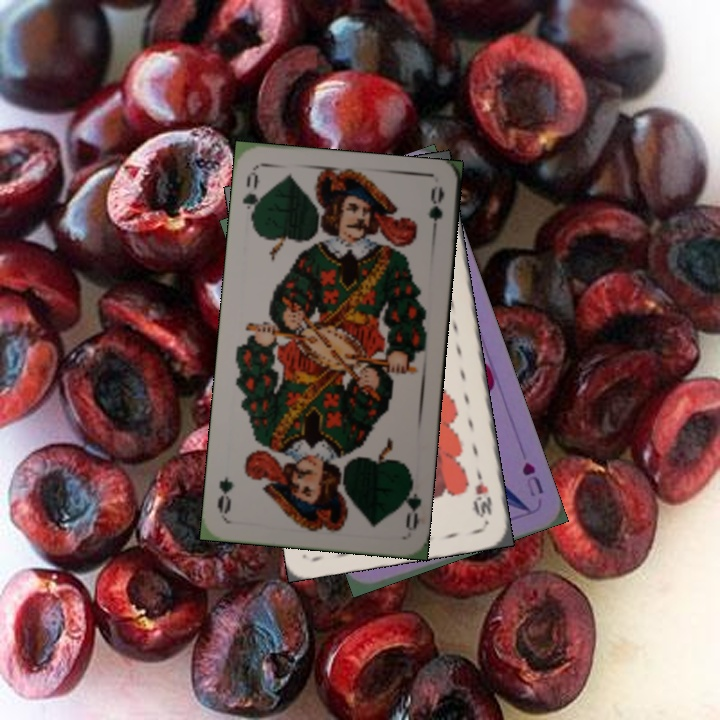GO: (396, 473, 424, 532), (238, 167, 265, 227)
H10: (470, 464, 495, 520)
HU: (518, 458, 546, 500)
